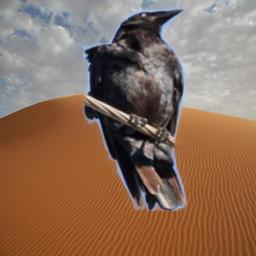Crow: (83, 6, 187, 211)
